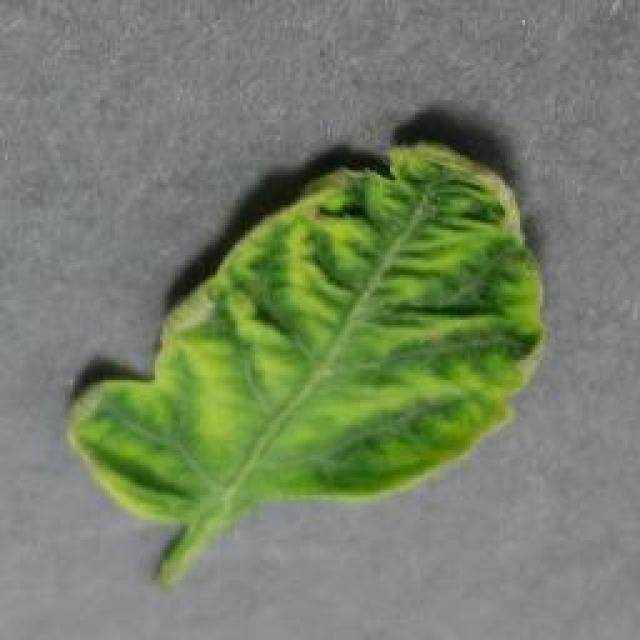Tomato yellow virus leaf: (63, 131, 555, 531)
